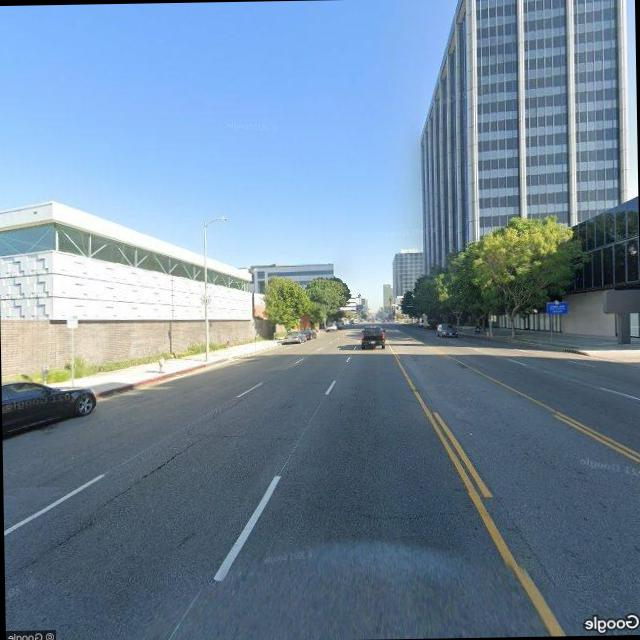crack: (43, 434, 207, 554), (358, 502, 472, 524)
